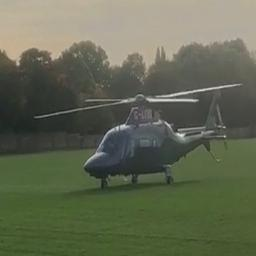helicopter: (34, 78, 245, 192)
